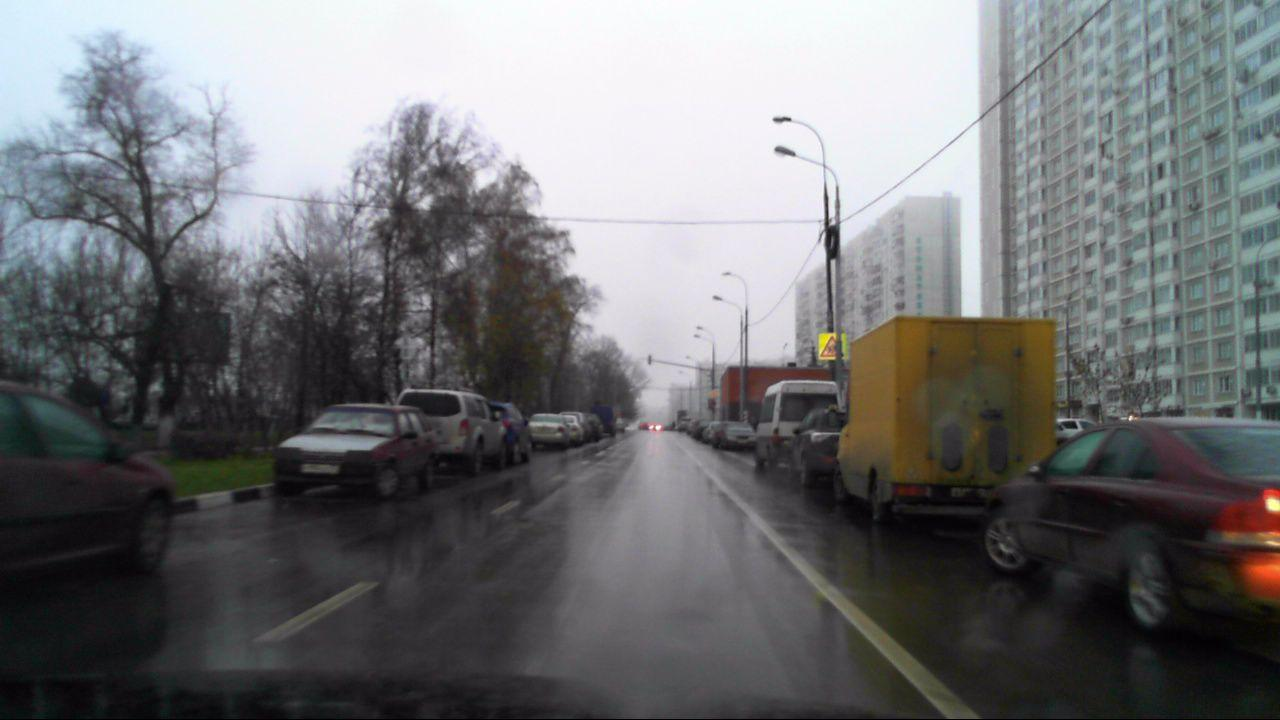obstructed_road_sign: (820, 334, 848, 360)
